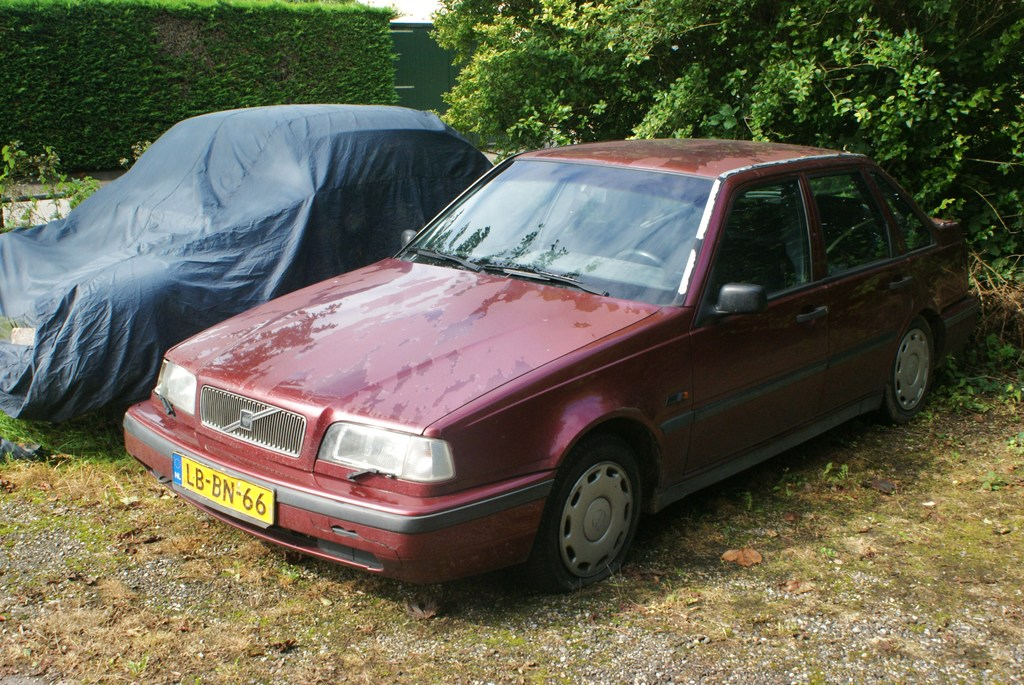Car: (119, 123, 984, 594), (0, 98, 492, 411)
